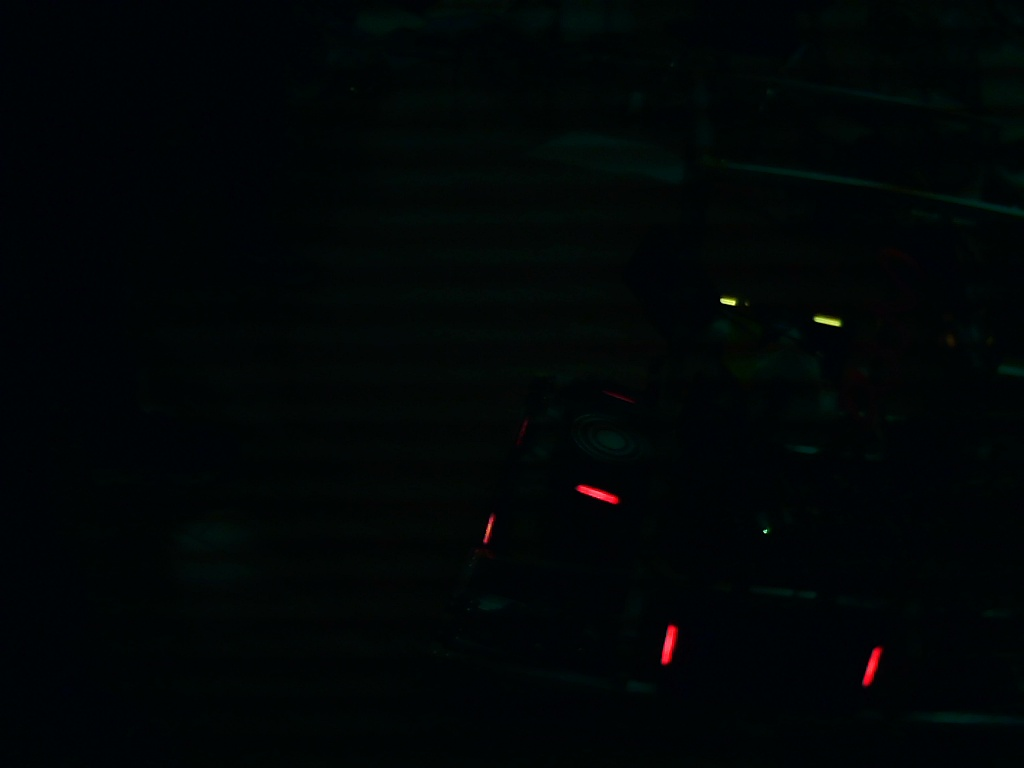lamp: (656, 622, 686, 666), (860, 643, 888, 690)
